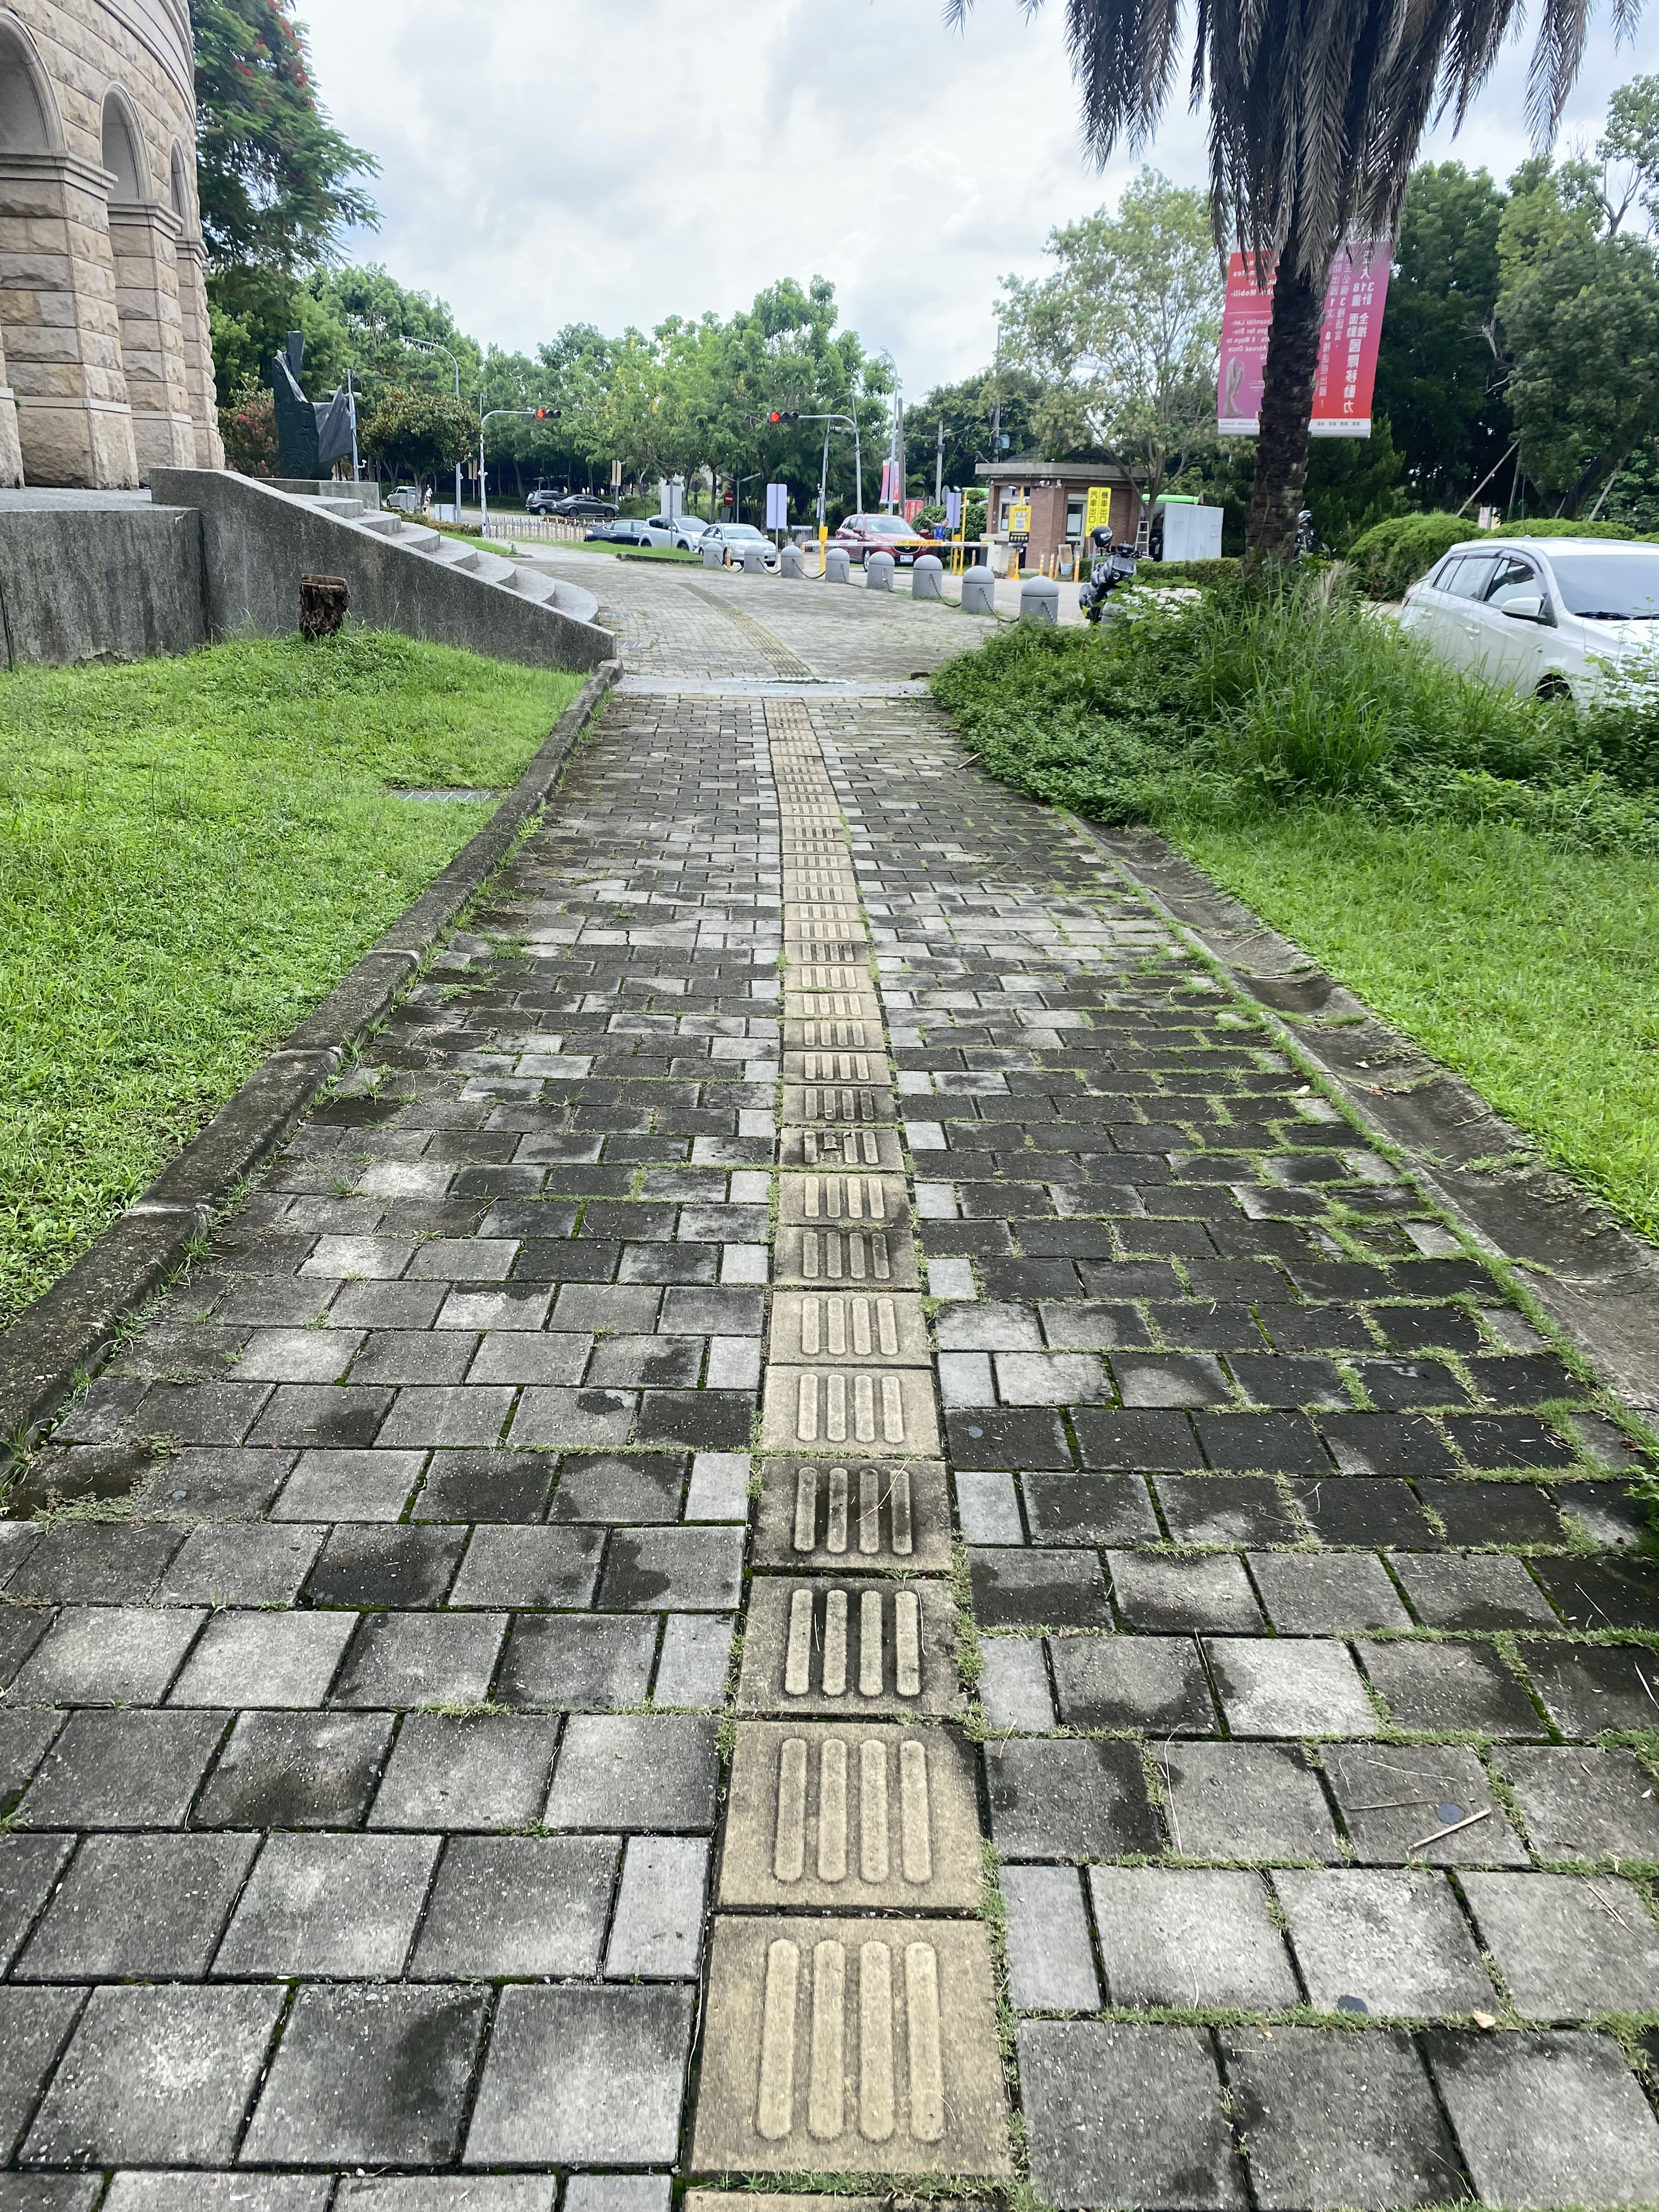0: (7, 779, 1659, 2212)
sidewalk: (491, 526, 1065, 1061)
